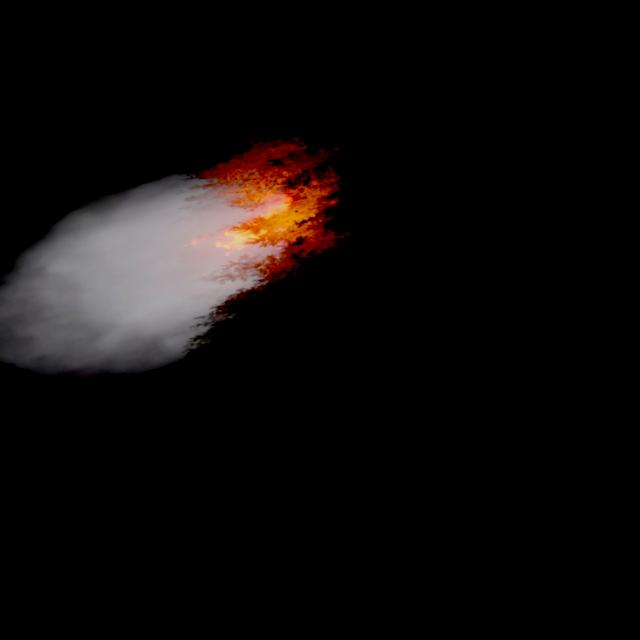fire: (200, 198, 301, 262)
smoke: (0, 133, 320, 422)
